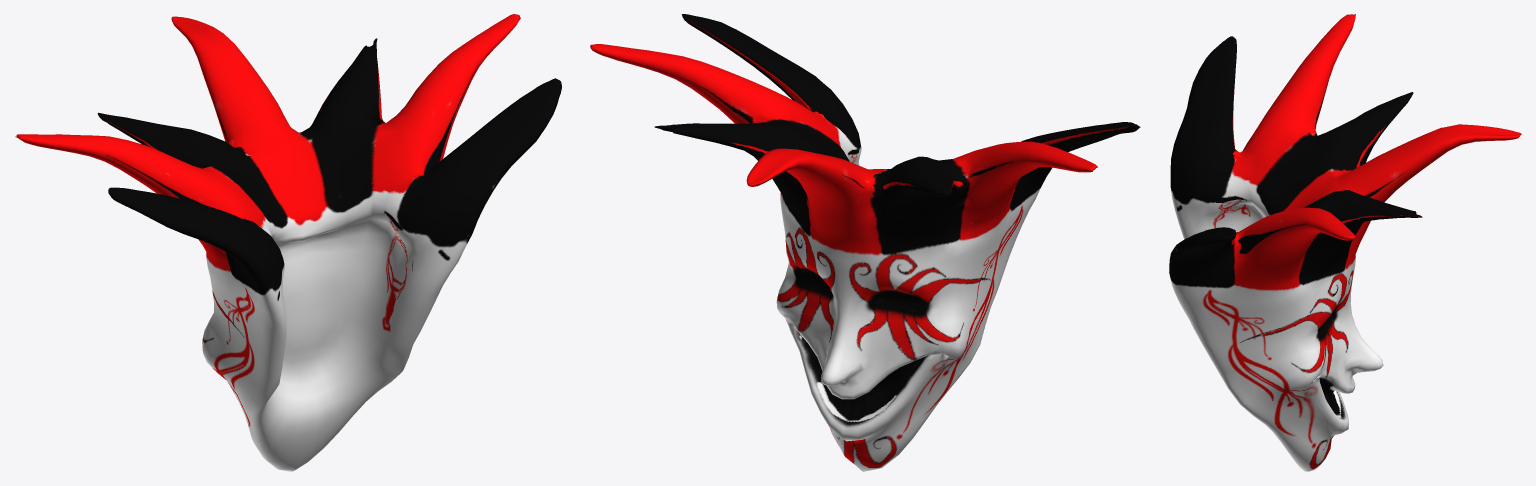
The model's file is Mask 1 Model.glb.
3 views of the same model, side by side, from view 1: azimuth 30°, elevation 25°; view 2: azimuth 150°, elevation 25°; view 3: azimuth 270°, elevation 25° (orthographic). The views are drawn at different scales.
Parts seen in each view (by area): view 1: Group42538; view 2: Group42538; view 3: Group42538.
Boxes of the visible parts, x1,y1,x2,y2 form: Group42538: (15, 14, 561, 471); Group42538: (590, 14, 1140, 471); Group42538: (1169, 14, 1521, 471).
Bounding box in the file's own units: 1.5 × 1.09 × 1.
Materials: 1 (1 with a texture image).
